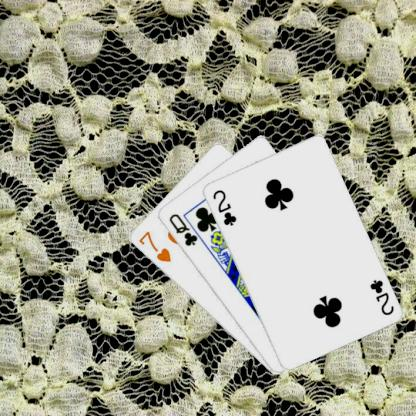2C: (366, 276, 394, 316), (210, 187, 237, 227)
7H: (136, 228, 172, 264)
QC: (166, 211, 198, 247)
